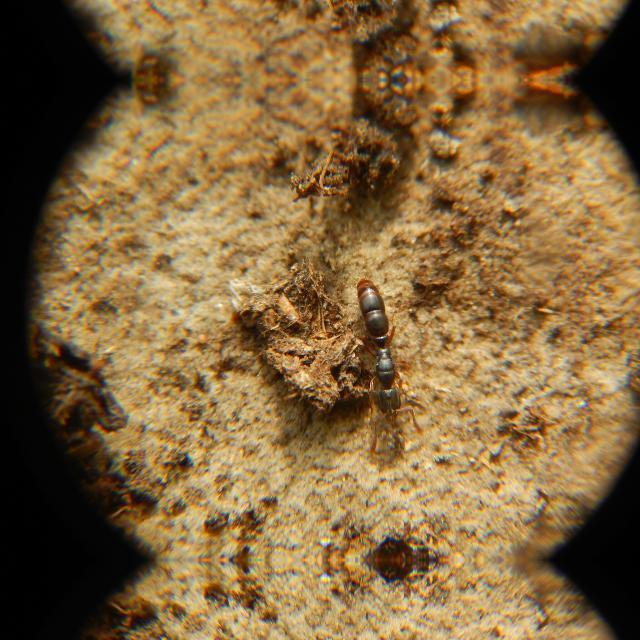Ponera: (356, 281, 416, 429)
